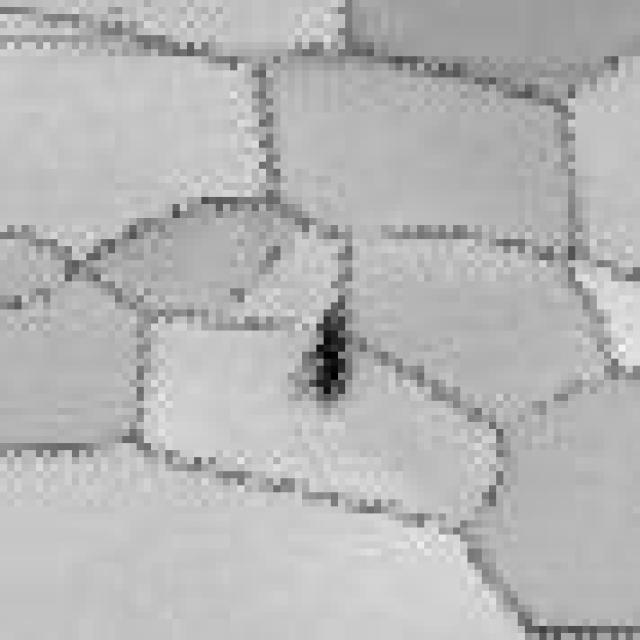good_void: (307, 284, 357, 408), (251, 235, 293, 274), (229, 282, 251, 306)
